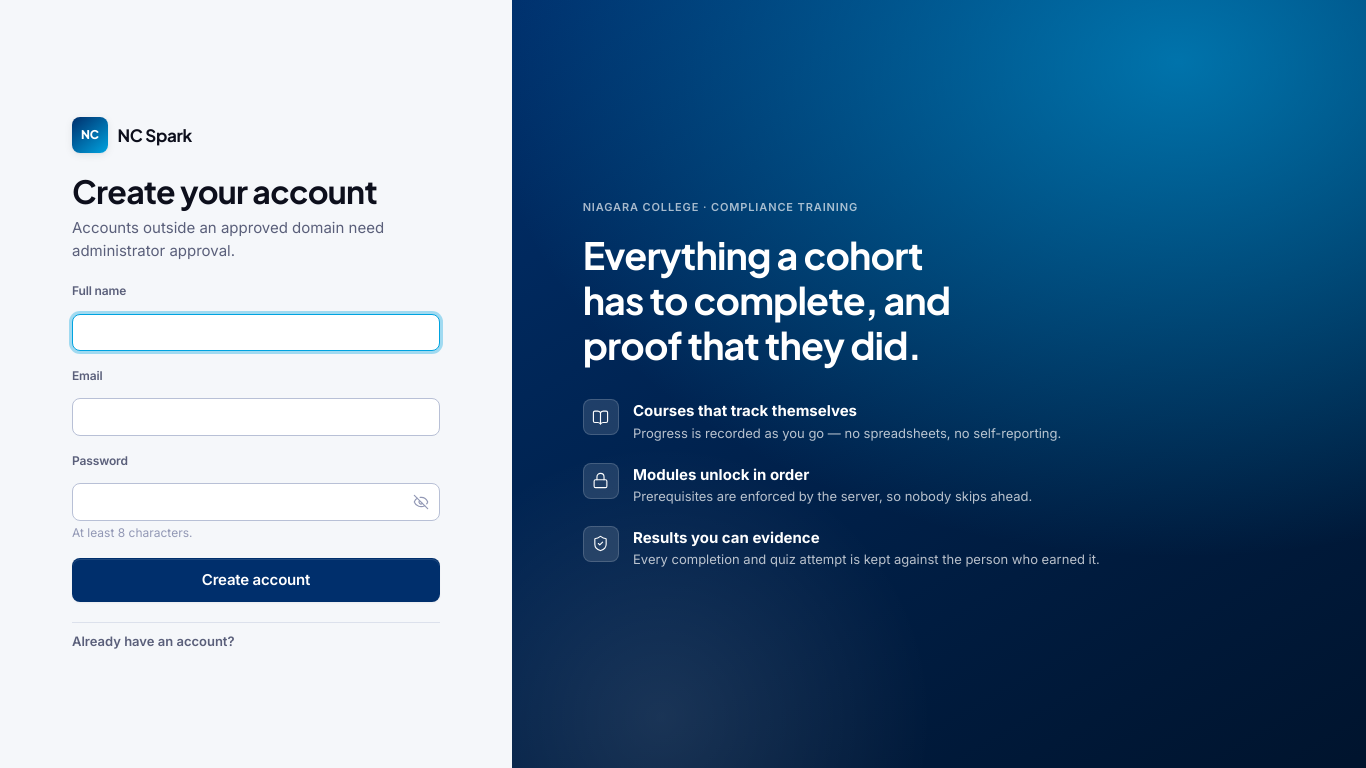
Test: creating the account › names the address to confirm
The width and height of the screenshot is (1366, 768).
Type "Sam Reed" into the field labelled "Full name" at (256,332), box x1=72 y1=314 x2=440 y2=351
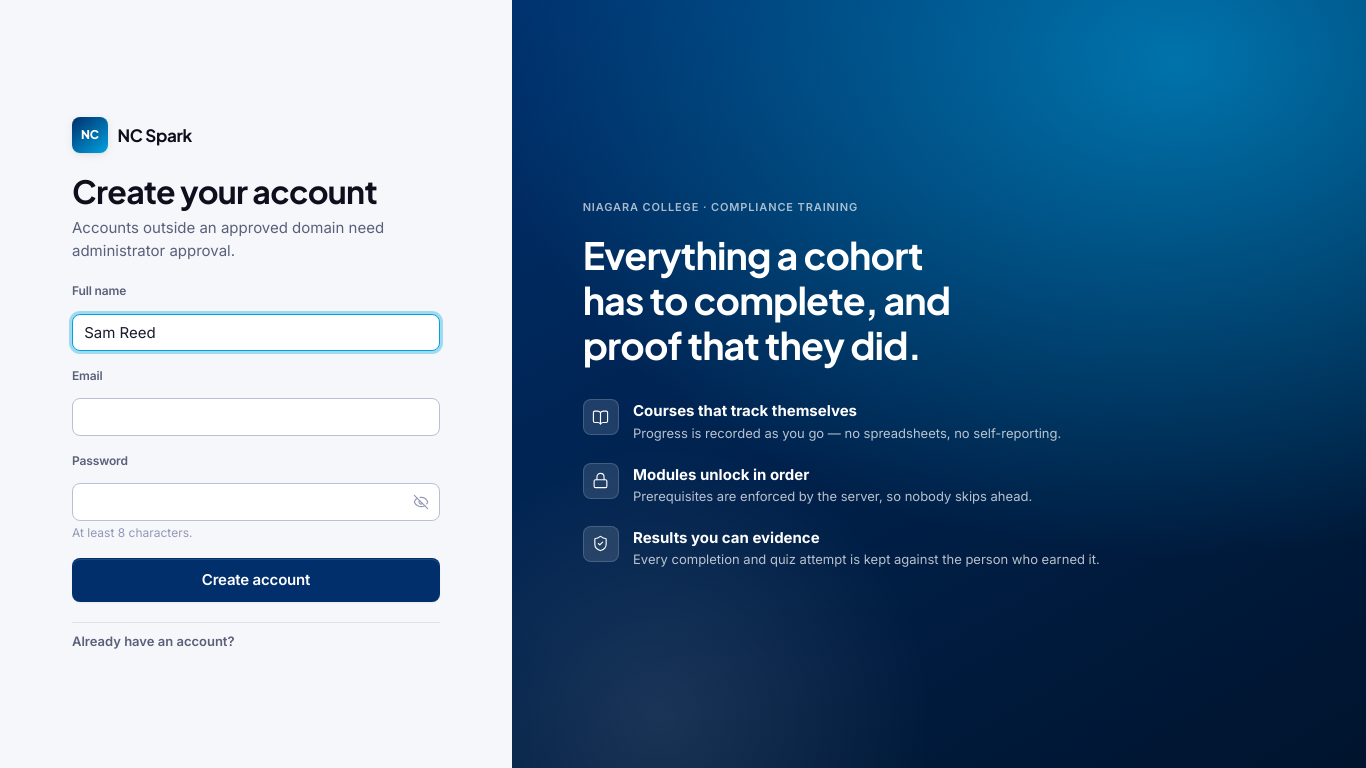
Type "sam@example.com" into the field labelled "Email" at (256,417), box x1=72 y1=398 x2=440 y2=436
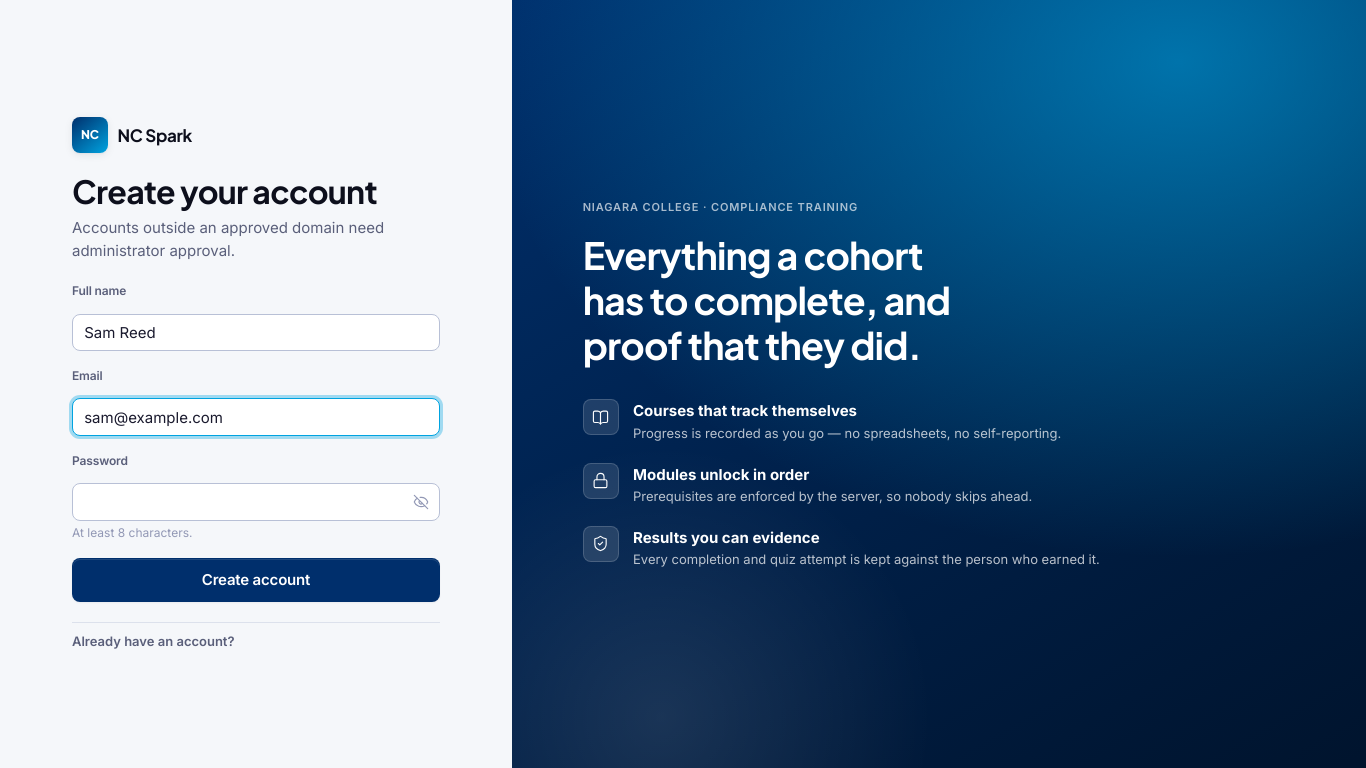
Type "longenough1" into the password field labelled "Password" at (256,502), box x1=72 y1=483 x2=440 y2=521
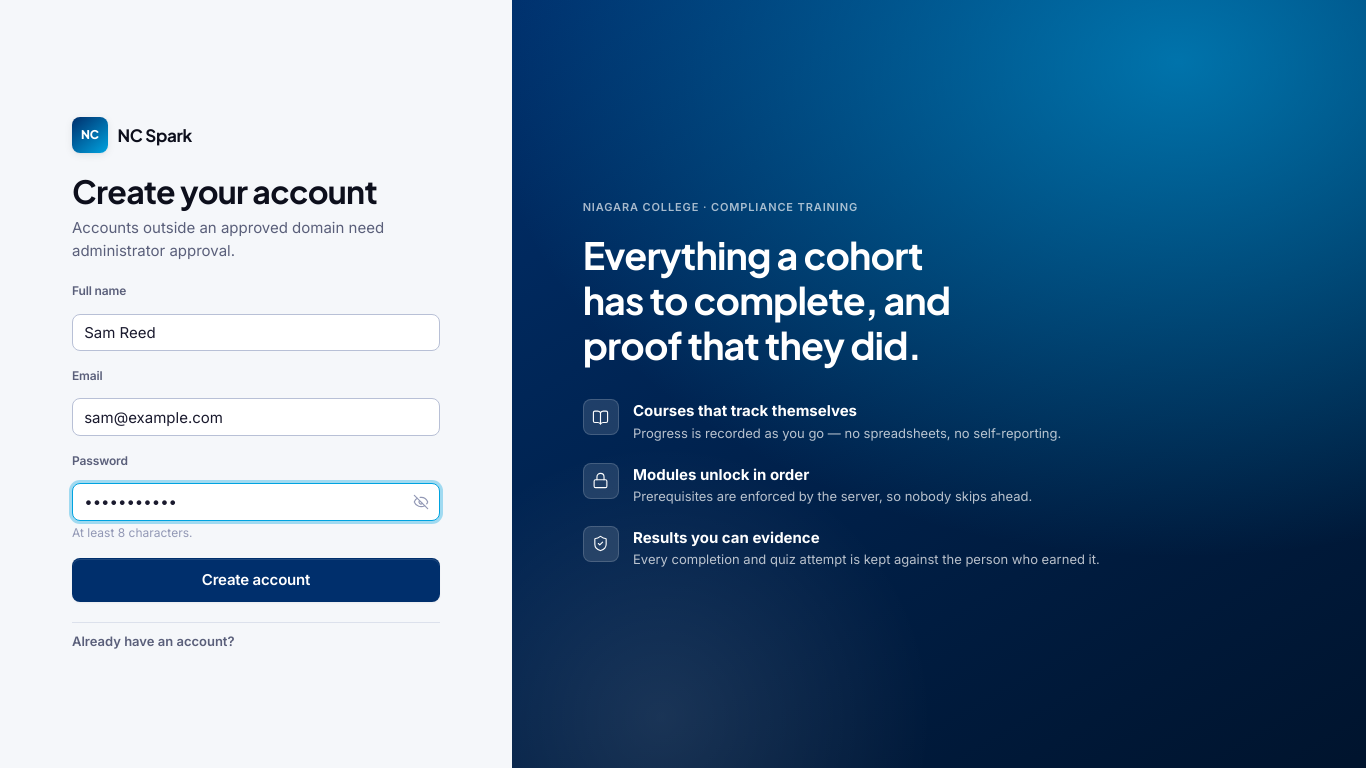
Click the button "Create account" at (256,580), box x1=72 y1=558 x2=440 y2=602
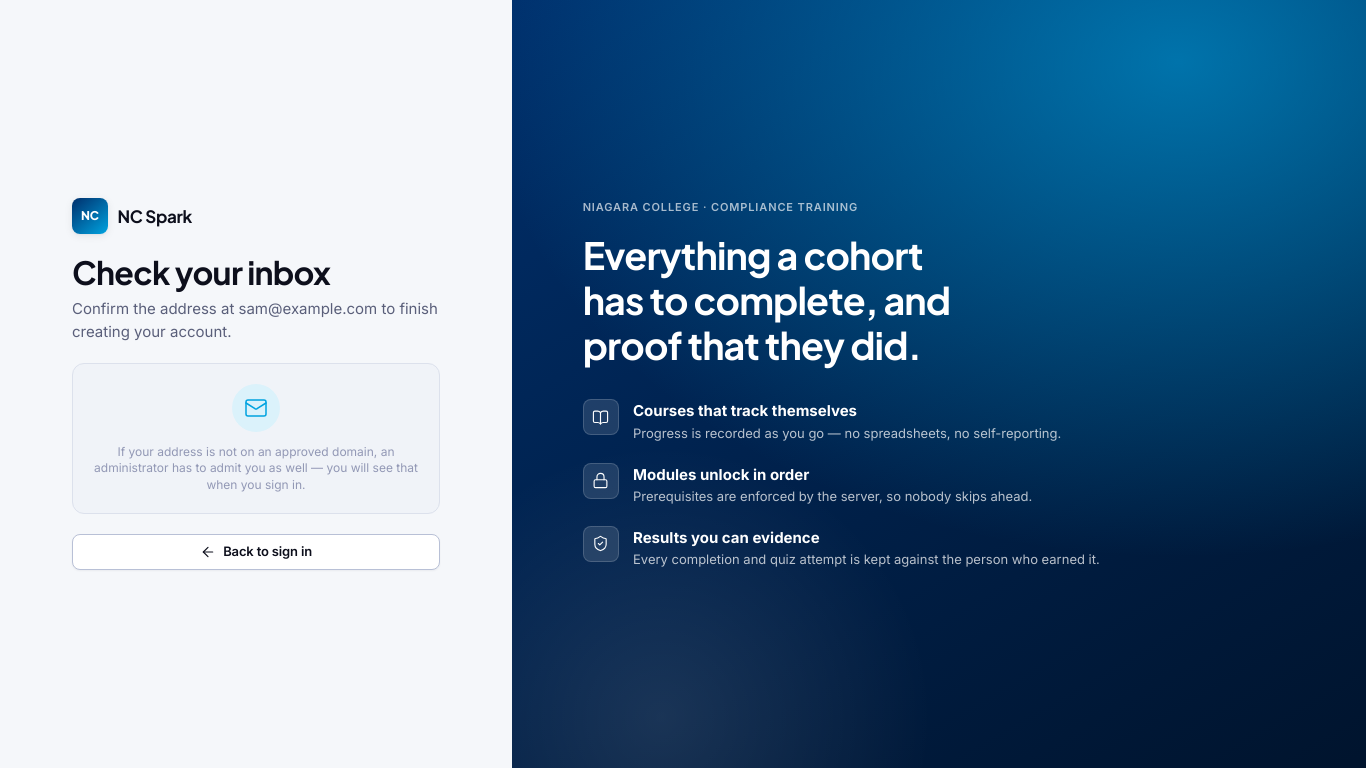
Expected: the text "sam@example.com" is shown, x1=72 y1=299 x2=438 y2=341
